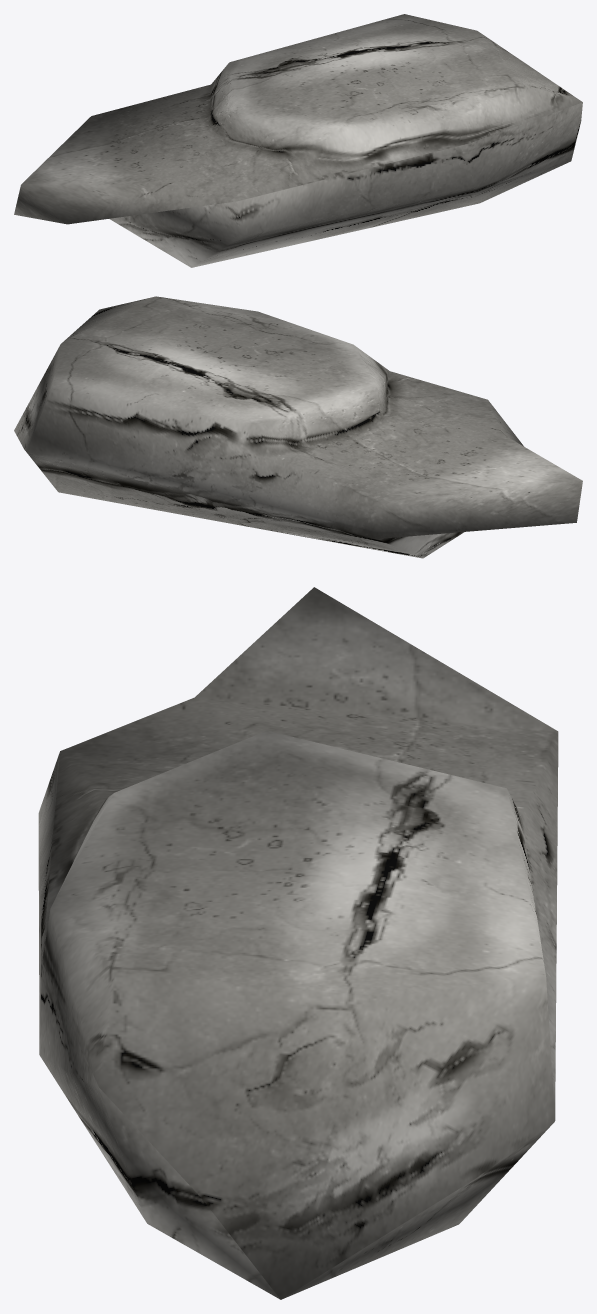
File: ROCK_3.FBX
The picture shows the model from 3 angles, top to bottom: view 1: azimuth 30°, elevation 25°; view 2: azimuth 150°, elevation 25°; view 3: azimuth 270°, elevation 25°; orthographic projection. The views are drawn at different scales.
Parts seen in each view (by area): view 1: 03; view 2: 03; view 3: 03.
Part boxes in pixels (left/top/right/bottom): 03: left=14, top=14, right=582, bottom=267; 03: left=14, top=296, right=582, bottom=558; 03: left=38, top=587, right=558, bottom=1299.
Size of the model in its own units: 709 by 160 by 294.
Materials: 1 (1 with a texture image).
